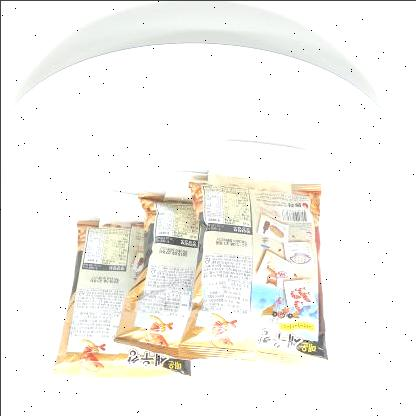Others: (46, 164, 334, 384)
